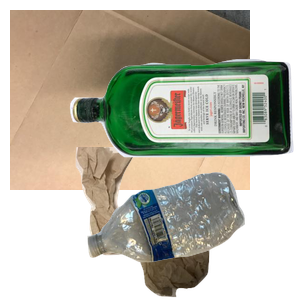cardboard: (10, 10, 250, 190)
glass: (67, 56, 300, 206)
plastic: (85, 170, 300, 300)
trash: (73, 147, 300, 300)
